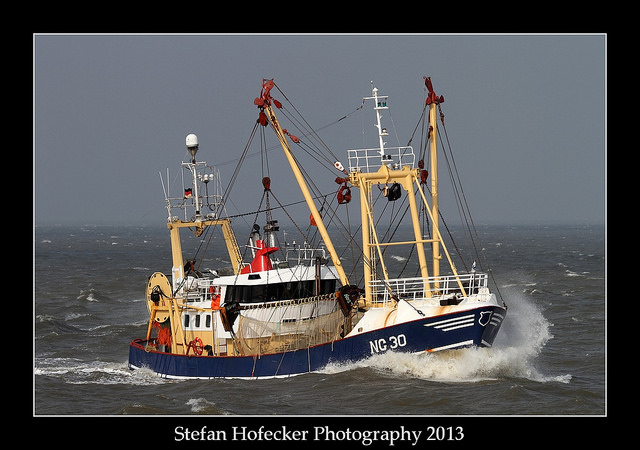fishing_boat: (123, 80, 512, 385)
